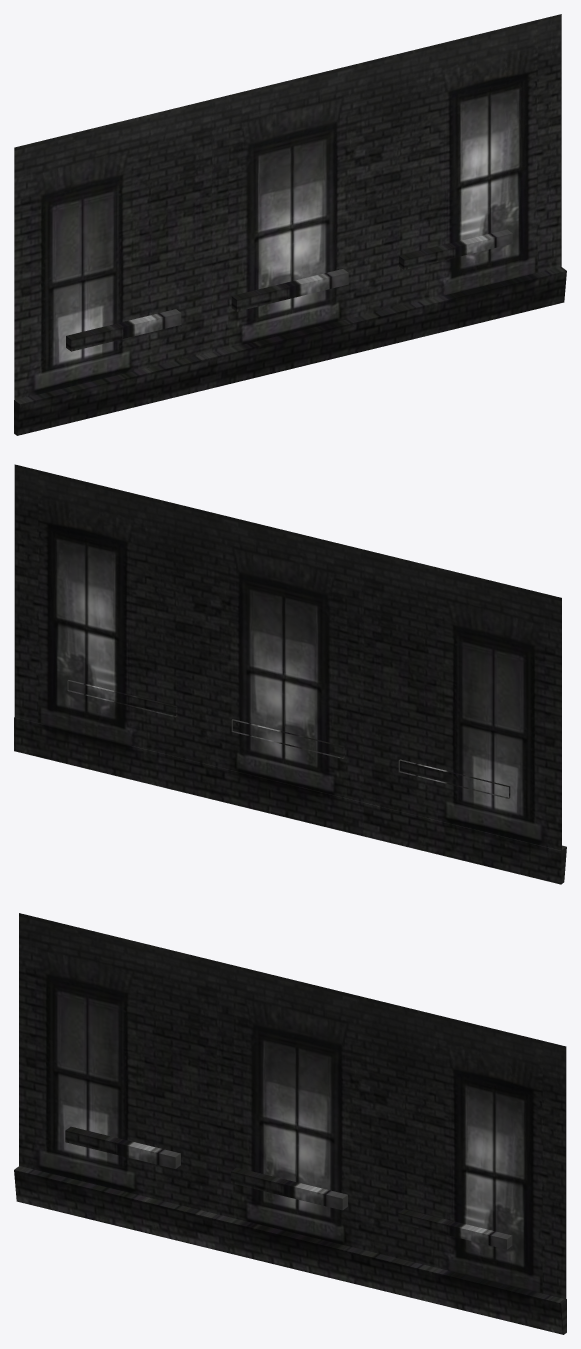
Rendered from floor.obj.
3 views of the same model, one above another, from view 1: azimuth 30°, elevation 25°; view 2: azimuth 150°, elevation 25°; view 3: azimuth 330°, elevation 25° (orthographic).
Parts seen in each view (by area): view 1: group; view 2: group; view 3: group.
Boxes of the visible parts, <box> form: group: <box>14,14,566,435</box>; group: <box>14,464,566,884</box>; group: <box>14,913,566,1334</box>.
Size of the model in its own units: 10 by 5 by 0.213.
